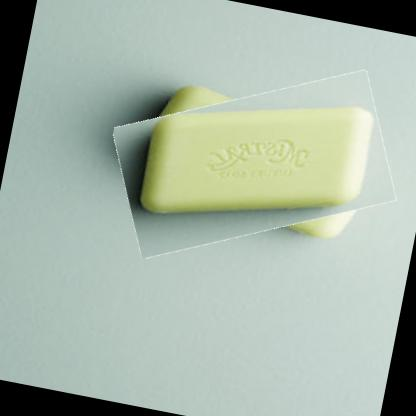soap: (100, 49, 406, 280)
